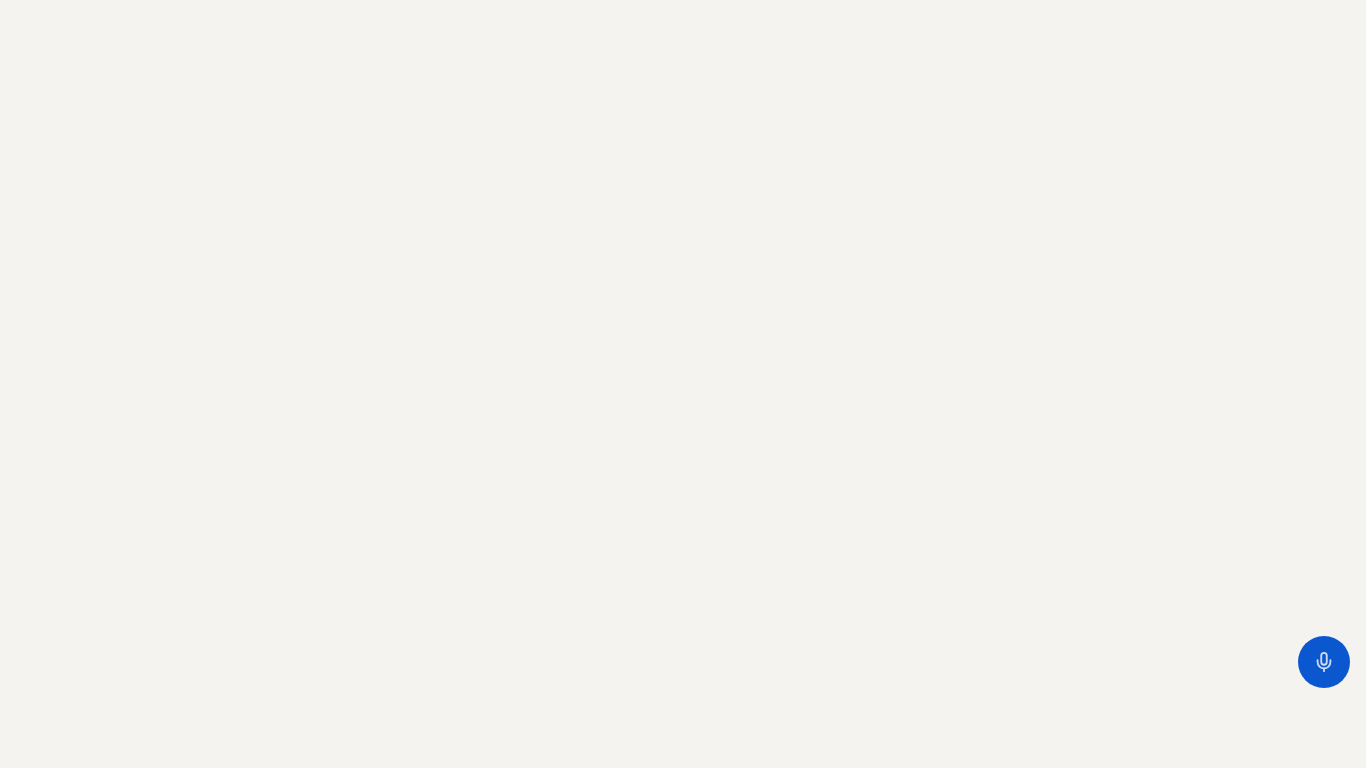
it: 自由に話す › 録音中は、聞き取れた文字が区間ごとに順へ増える
The image size is (1366, 768).
Step 1. Click the button named "音声入力を開始" → [1324, 662], box top-left (1298, 636), bottom-right (1350, 688)
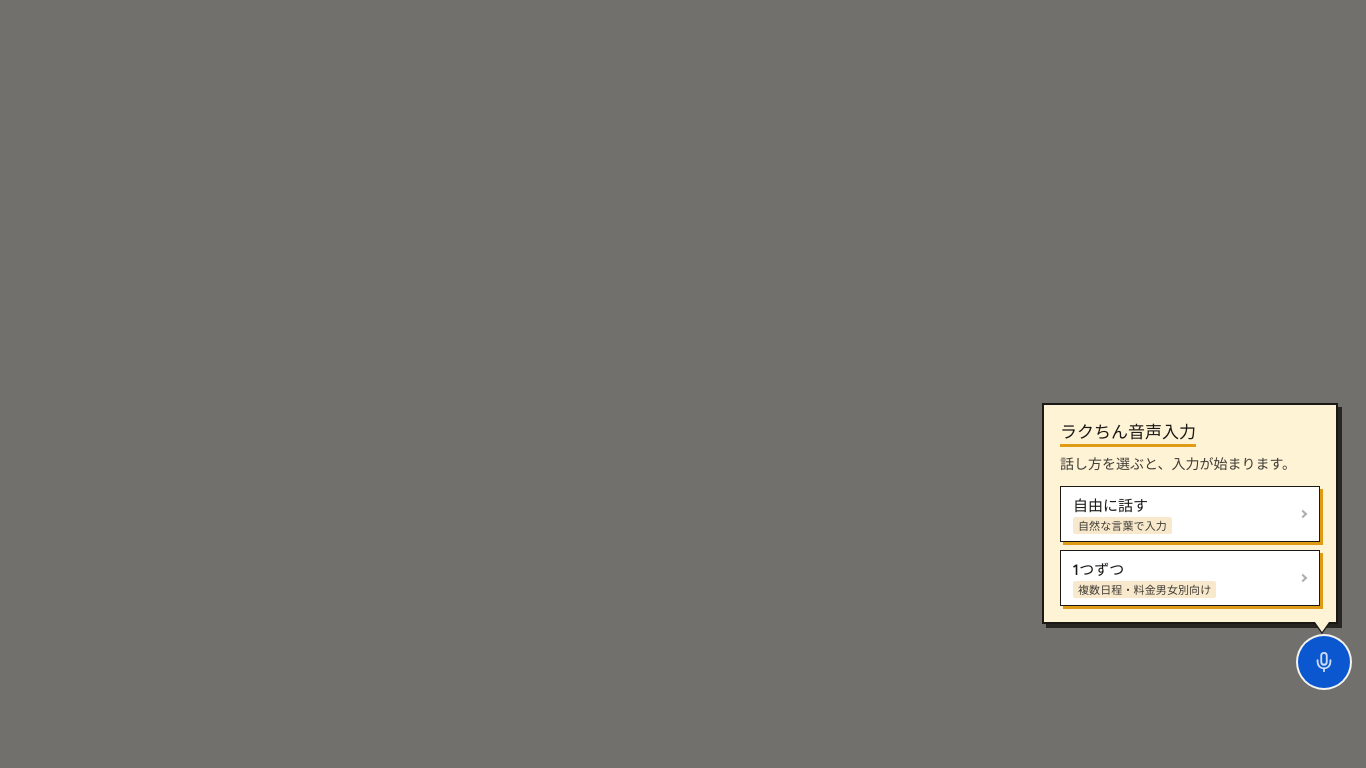
Step 2. Click the button "自由に話す 自然な言葉で入力" → [1111, 505], box top-left (1060, 486), bottom-right (1320, 542)
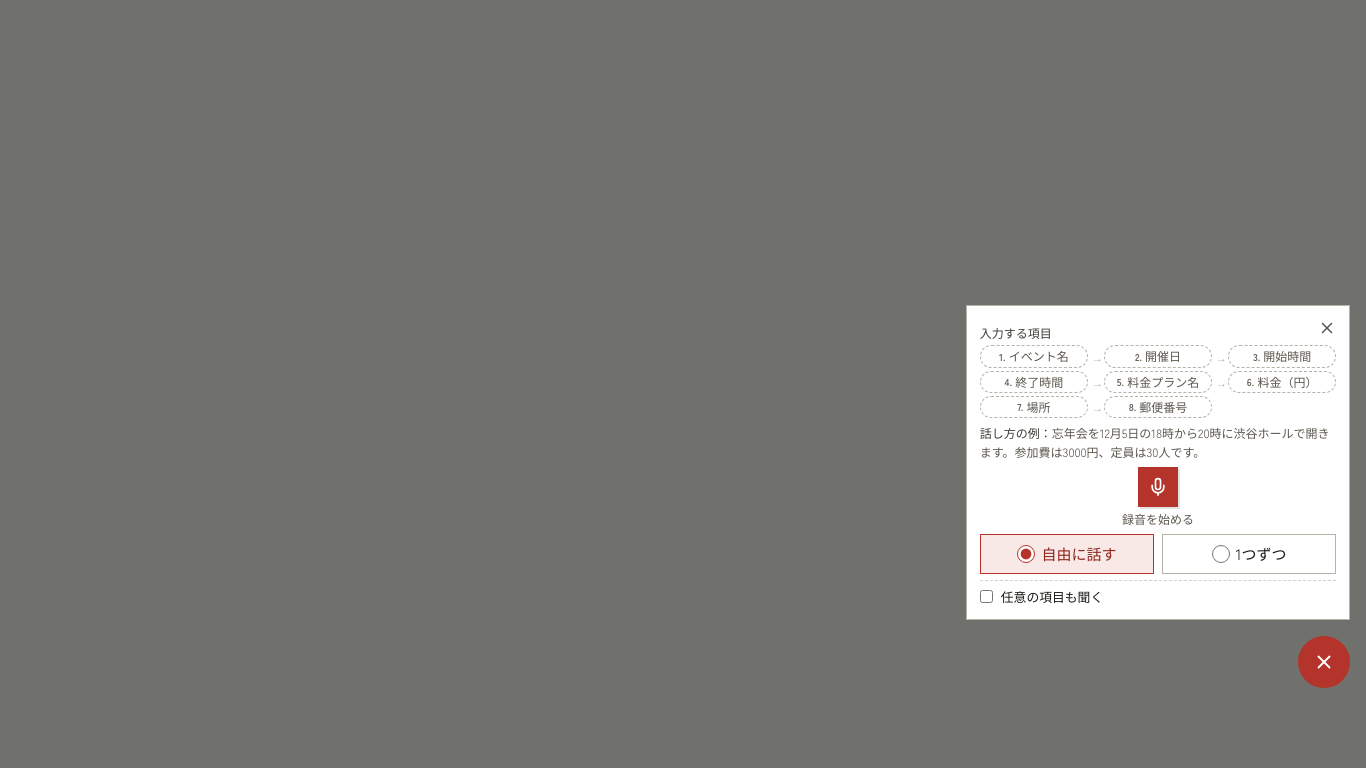
Expected: the text "トークスクリプト" is not shown
Step 3. Click the button named "録音を始める" → [1158, 487], box top-left (1138, 467), bottom-right (1178, 507)
Wait 1700 ms
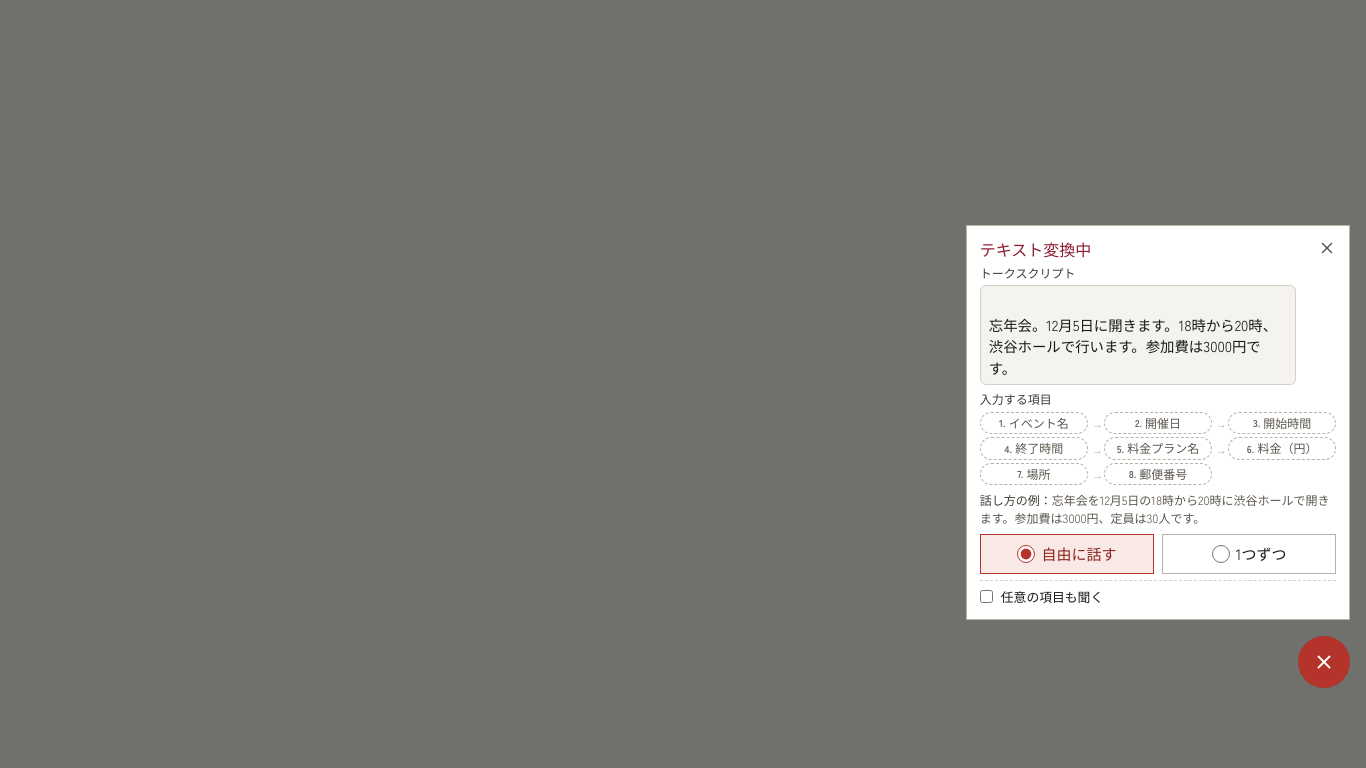
Expected: the element that starts with "入力する項目" is shown, top-left (980, 392), bottom-right (1336, 485)
Expected: the text "トークスクリプト" is shown, top-left (980, 264), bottom-right (1076, 281)
Expected: the element showing "トークスクリプト 忘年会。12月5日に開きます。18時から20時、渋谷ホールで行います。参加費は3000円です。" is shown, top-left (980, 265), bottom-right (1296, 386)
